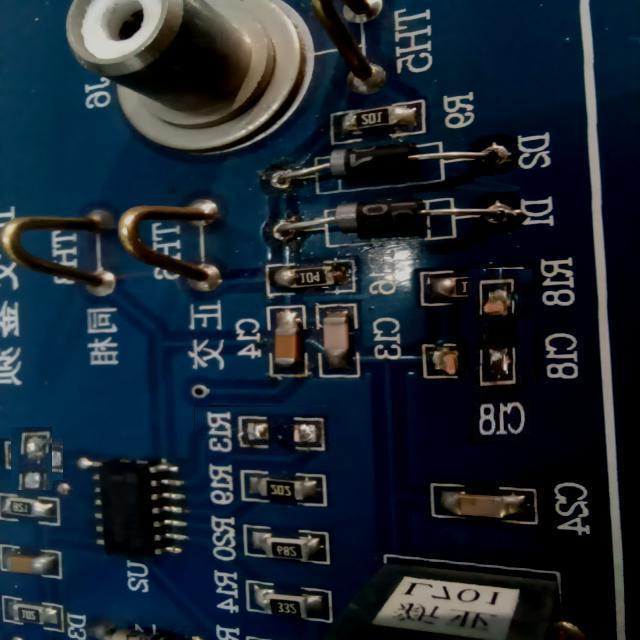miss_welding: (440, 297, 560, 418), (194, 406, 332, 456), (5, 433, 58, 485)
